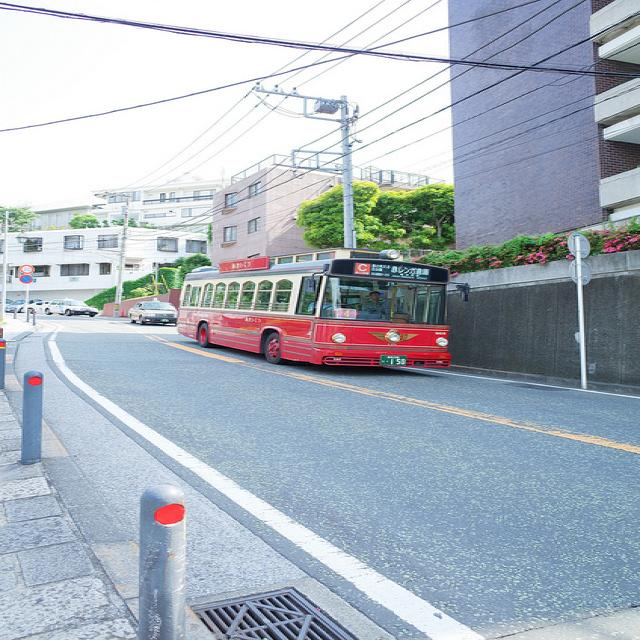Vehicle: (175, 247, 454, 368), (129, 302, 179, 325), (44, 298, 99, 318), (5, 299, 42, 313), (24, 300, 51, 314), (6, 298, 14, 304)
